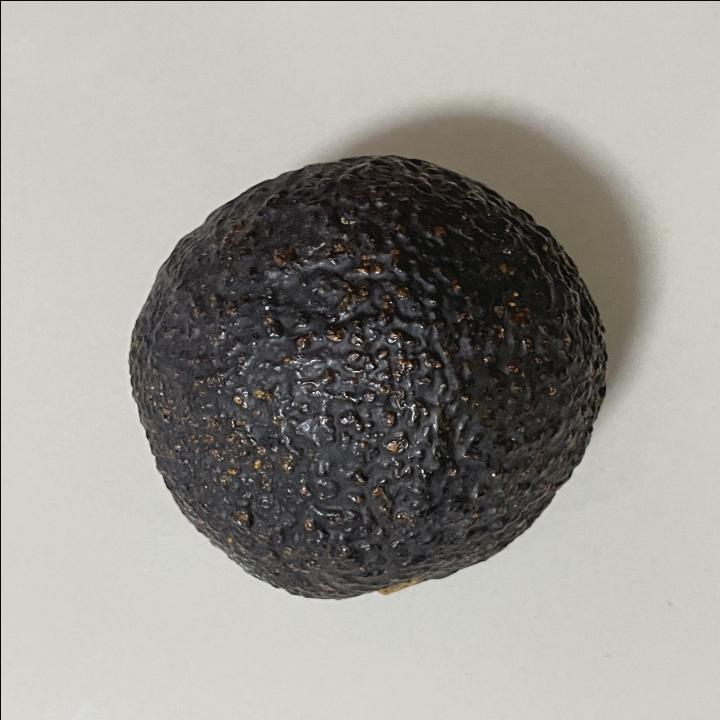Level3: (115, 144, 620, 610)
